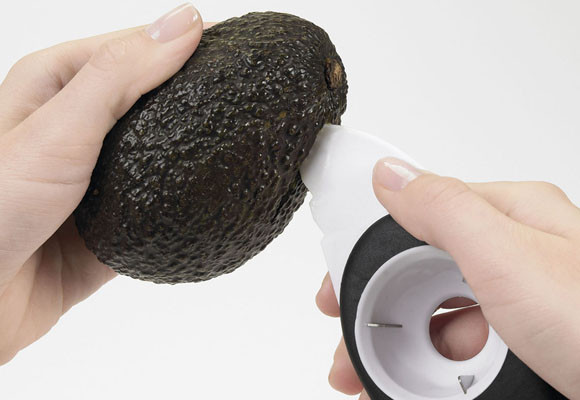fit_avocado: (63, 5, 358, 290)
